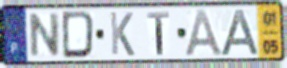A: (183, 8, 226, 58), (219, 8, 262, 57)
D: (61, 9, 96, 60)
K: (108, 10, 136, 58)
N: (29, 12, 62, 60)
T: (146, 10, 171, 56)
